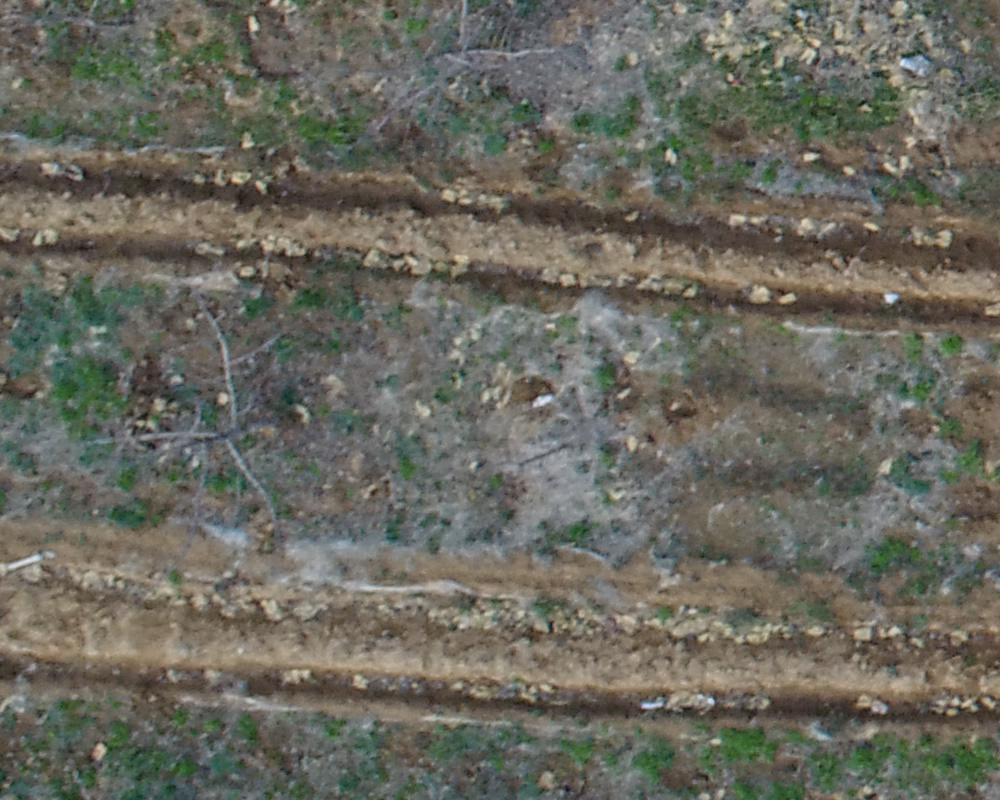apple: (99, 310, 341, 538), (344, 10, 585, 161)
